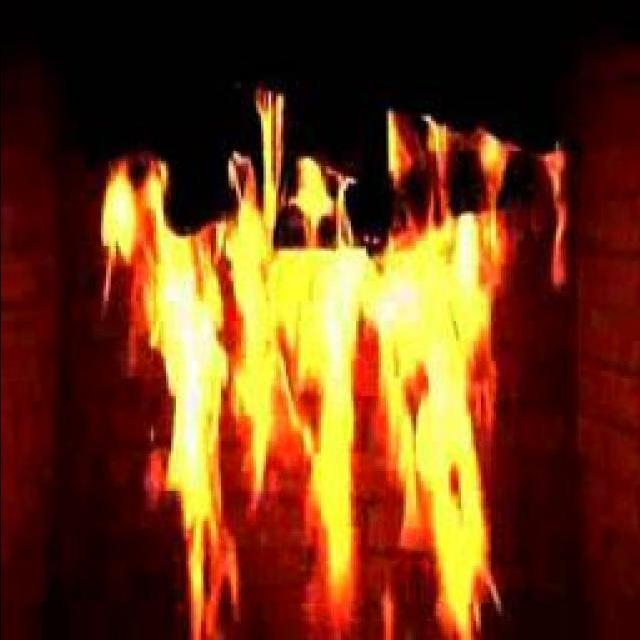Fire: (110, 163, 497, 599)
